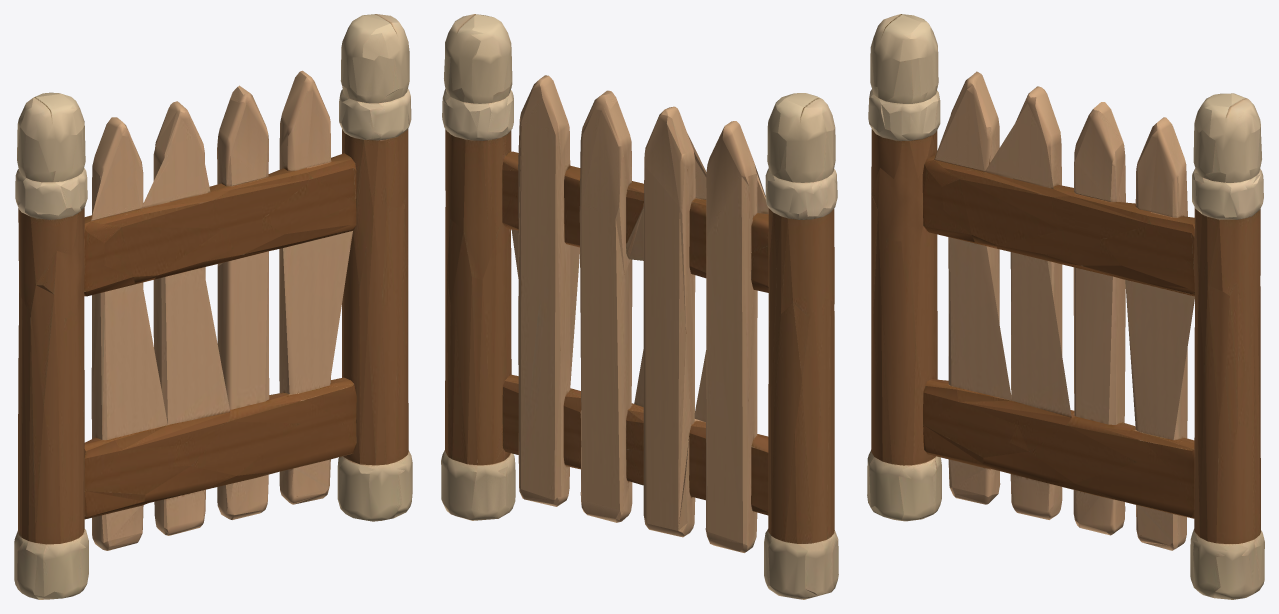
The model's file is picketFence.glb.
3 views of the same model, side by side, from view 1: azimuth 30°, elevation 25°; view 2: azimuth 150°, elevation 25°; view 3: azimuth 330°, elevation 25° (orthographic).
Parts seen in each view (by area): view 1: Mesh_0; view 2: Mesh_0; view 3: Mesh_0.
Boxes of the visible parts, box(x1,y1,x2,y2) form: Mesh_0: box(14, 14, 412, 599); Mesh_0: box(441, 14, 838, 599); Mesh_0: box(867, 14, 1264, 599).
Size of the model in its own units: 1 by 1.2 by 0.16.
1 material, 1 textured.
